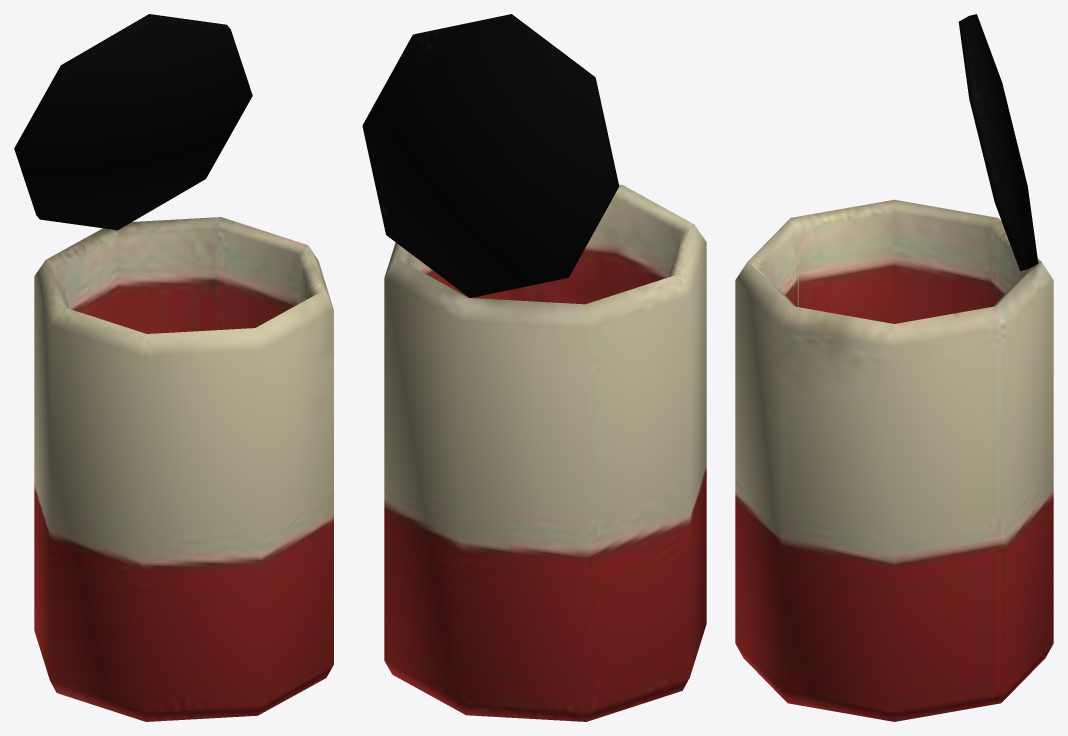
File: can_open_lod1_web.glb
3 views of the same model, side by side, from view 1: azimuth 30°, elevation 25°; view 2: azimuth 150°, elevation 25°; view 3: azimuth 270°, elevation 25° (orthographic). The views are drawn at different scales.
Visible parts, largest first — view 1: CanOpen_Body; view 2: CanOpen_Body; view 3: CanOpen_Body.
Part boxes in pixels (bbox=[...]): CanOpen_Body: bbox=[14, 14, 333, 721]; CanOpen_Body: bbox=[362, 14, 706, 721]; CanOpen_Body: bbox=[735, 14, 1053, 721].
Size of the model in its own units: 0.08 by 0.1772 by 0.08.
Materials: 1 (1 with a texture image).
